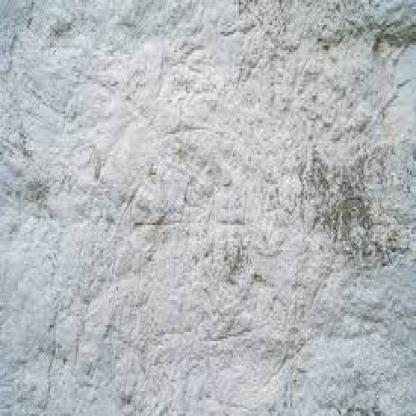Sedimentary_Chalk: (1, 2, 414, 414)
